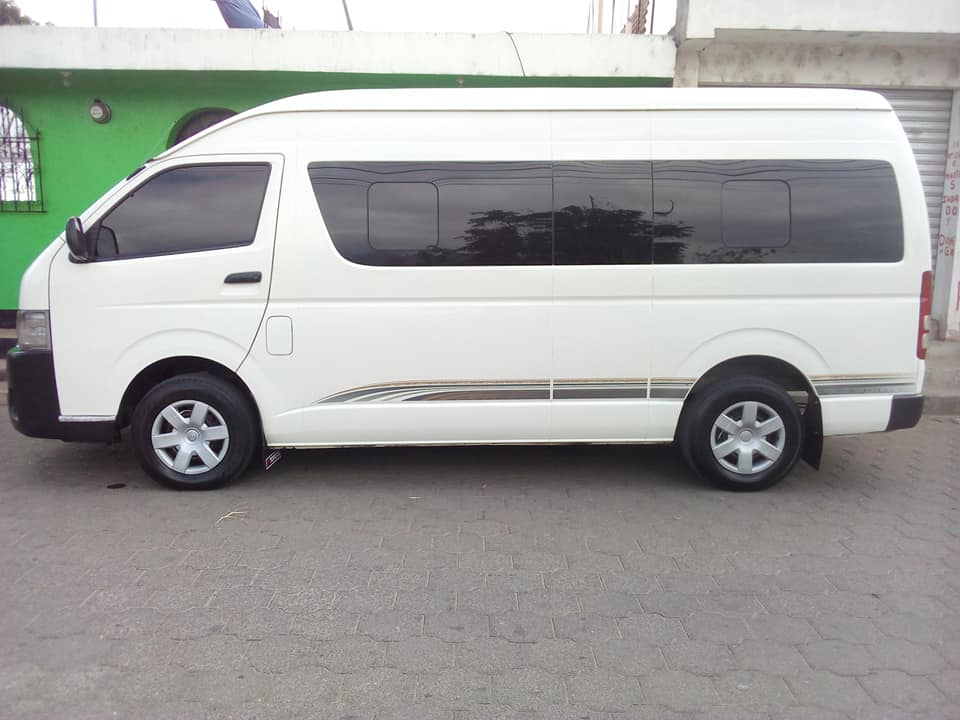bus: (6, 84, 931, 493)
